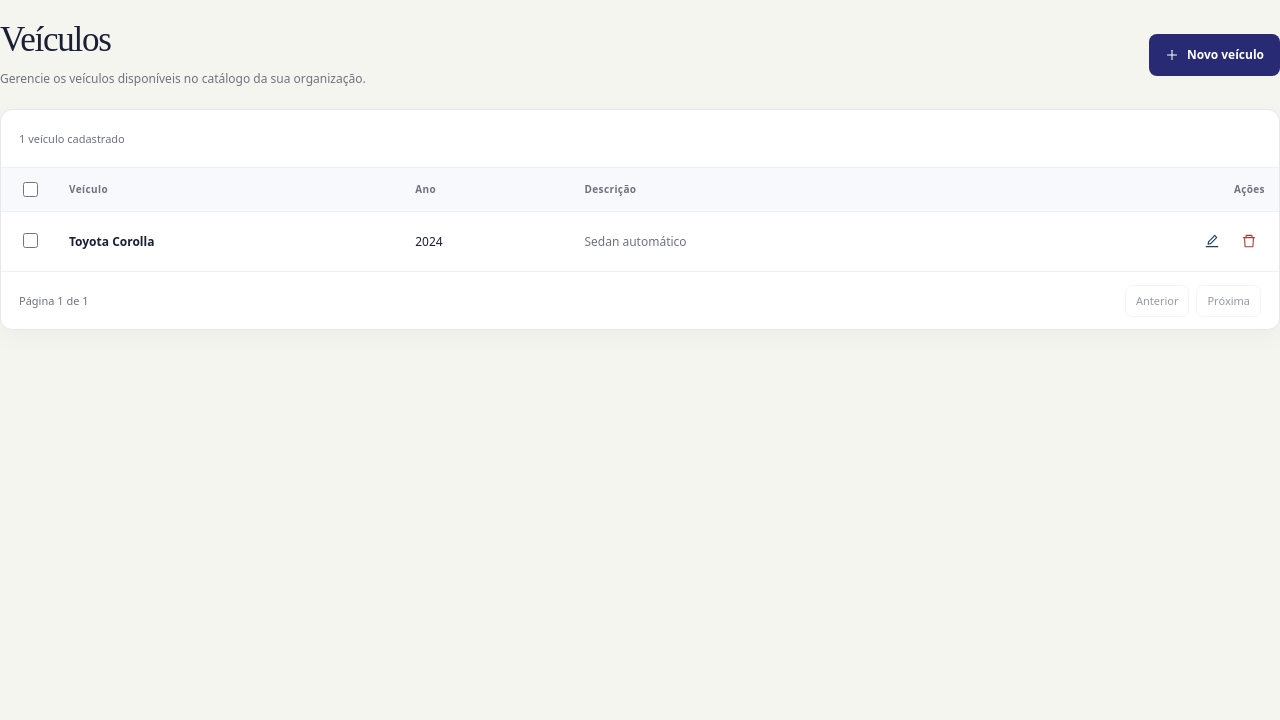
Test: vehicle management page › shows field-level validation errors and blocks invalid vehicle requests
Click the button "Novo veículo". click: (1214, 54)
box: x1=1149 y1=34 x2=1279 y2=76
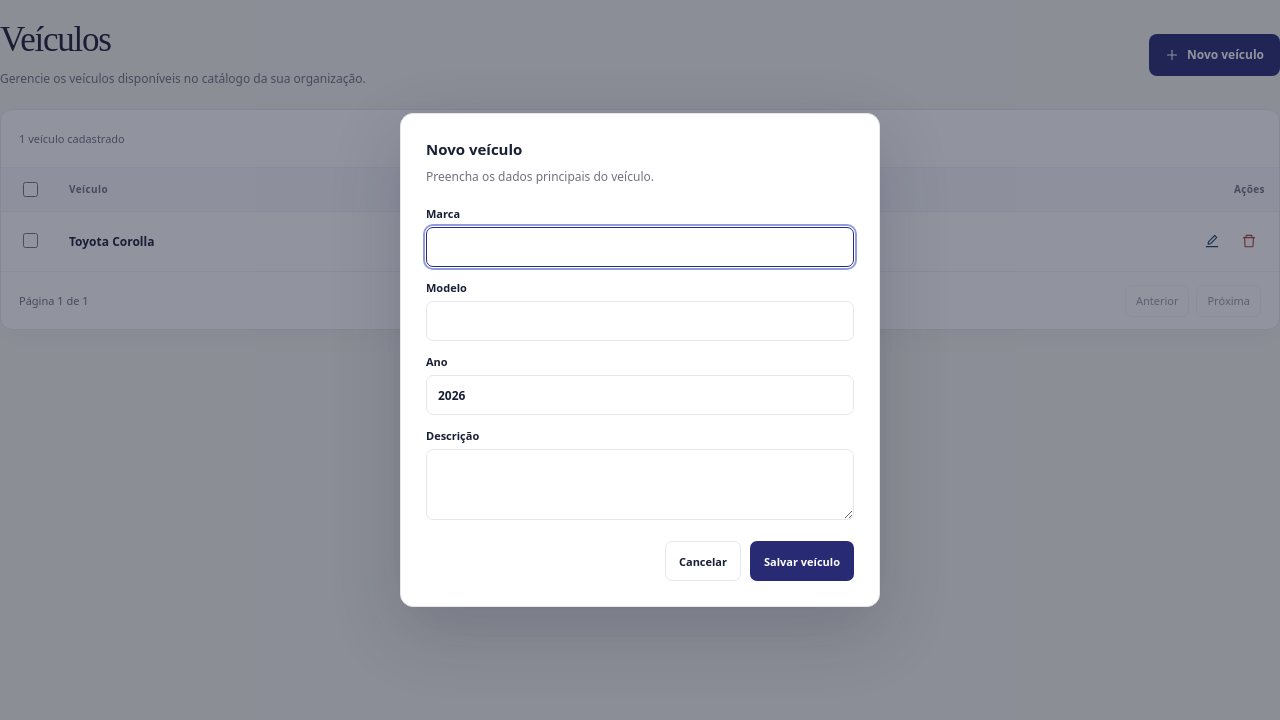
Type "A" into the field labelled "Marca". click: (640, 247)
box: x1=426 y1=227 x2=854 y2=267
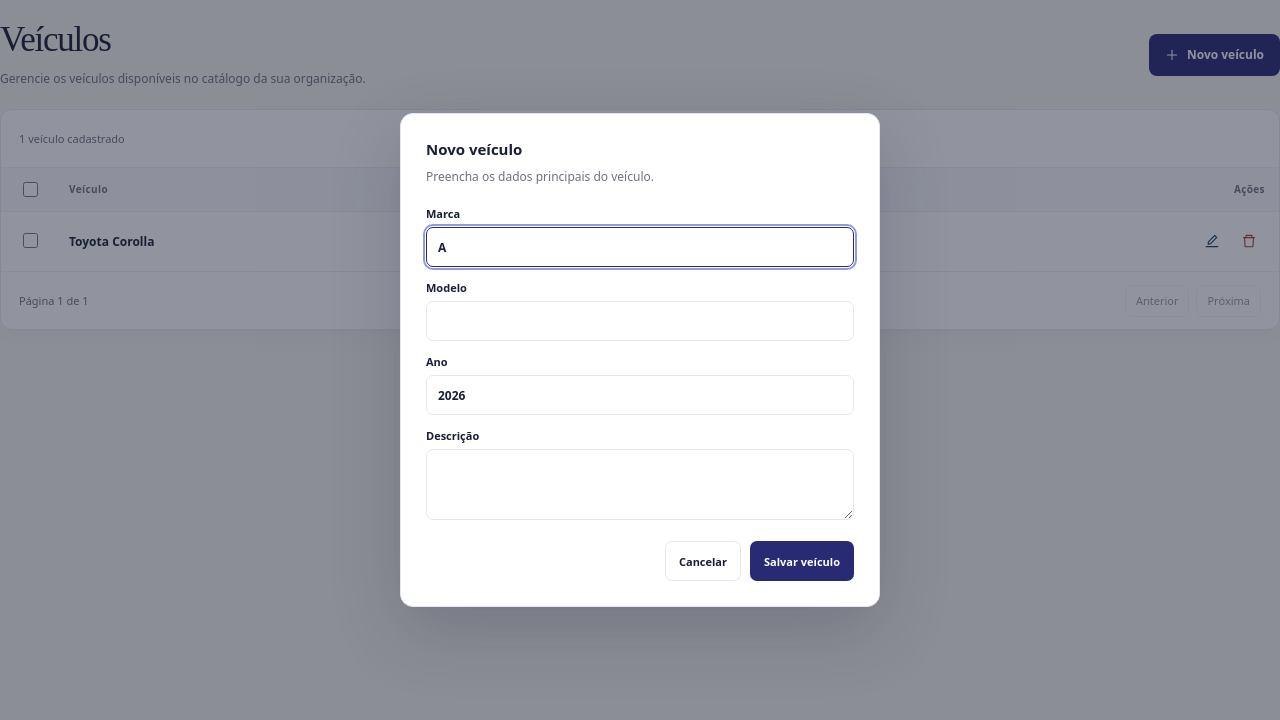
Clear the field labelled "Modelo". click: (640, 321)
box: x1=426 y1=301 x2=854 y2=341
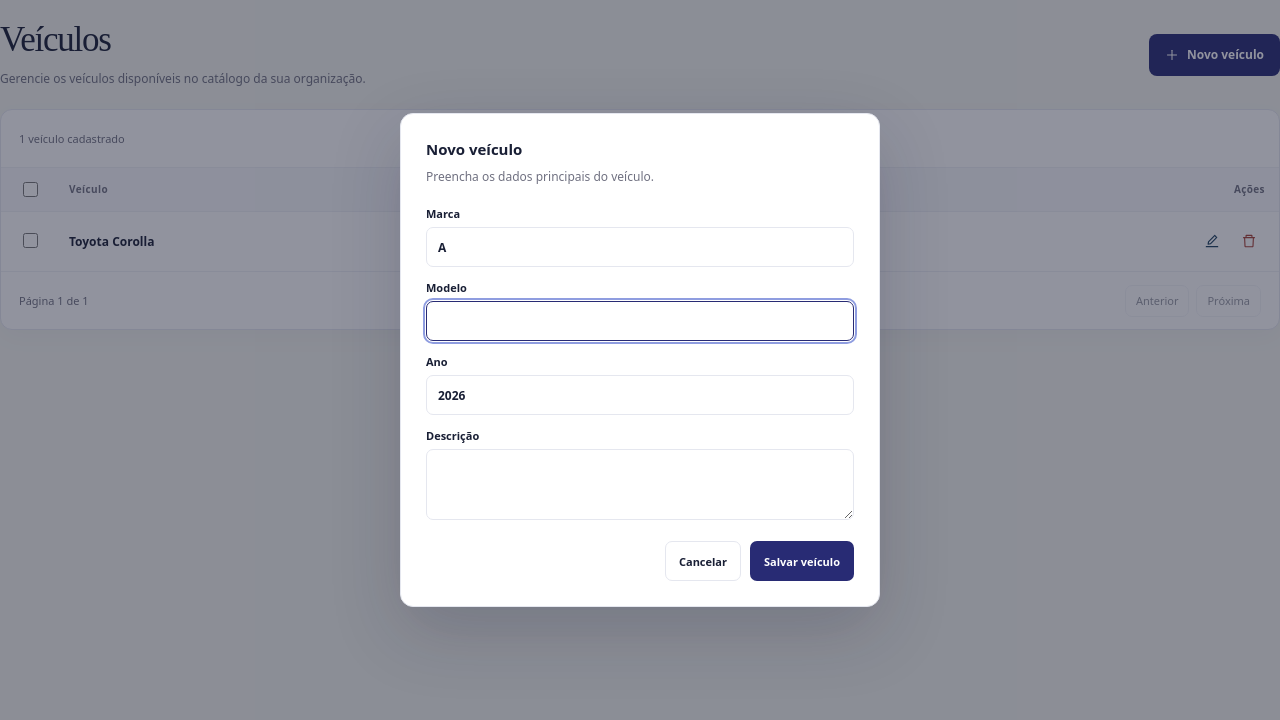
Clear the field labelled "Ano". click: (640, 395)
box: x1=426 y1=375 x2=854 y2=415
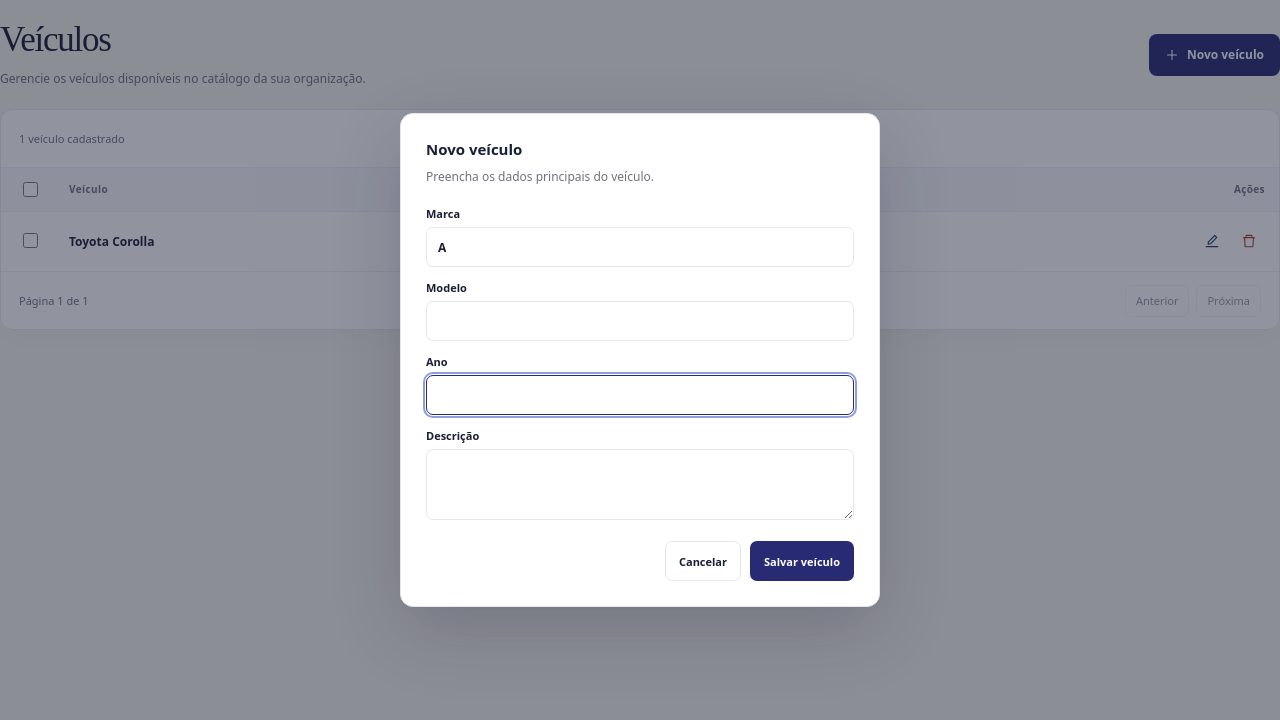
Click the button "Salvar veículo". click: (802, 561)
box: x1=750 y1=541 x2=854 y2=581
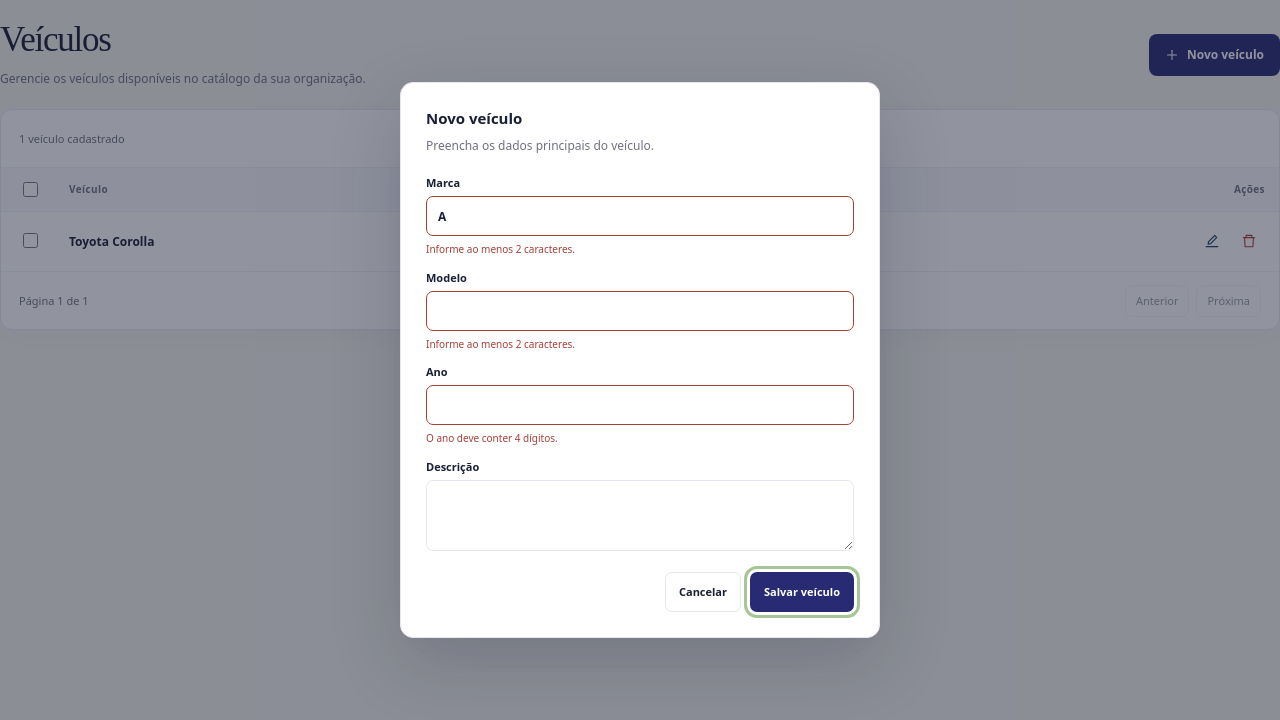
Check: the text "Informe ao menos 2 caracteres." below "Marca" is shown, box x1=426 y1=242 x2=575 y2=256
Check: the text "O ano deve conter 4 dígitos." is shown, box x1=426 y1=431 x2=558 y2=445
